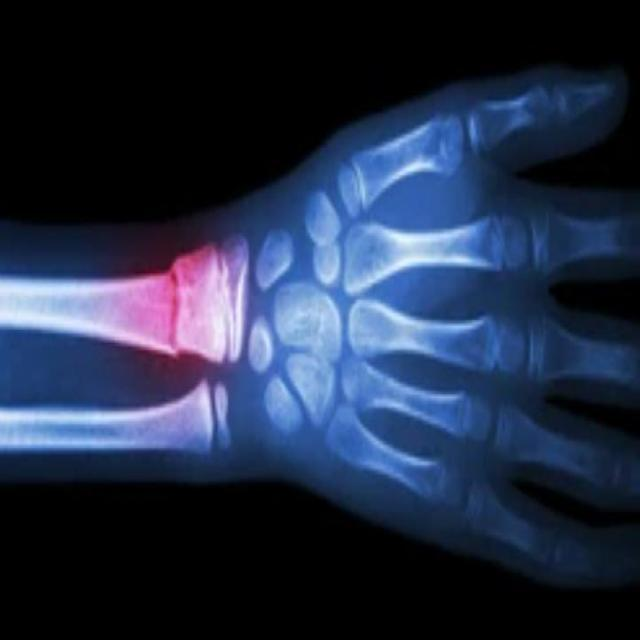bone: (150, 240, 200, 374)
